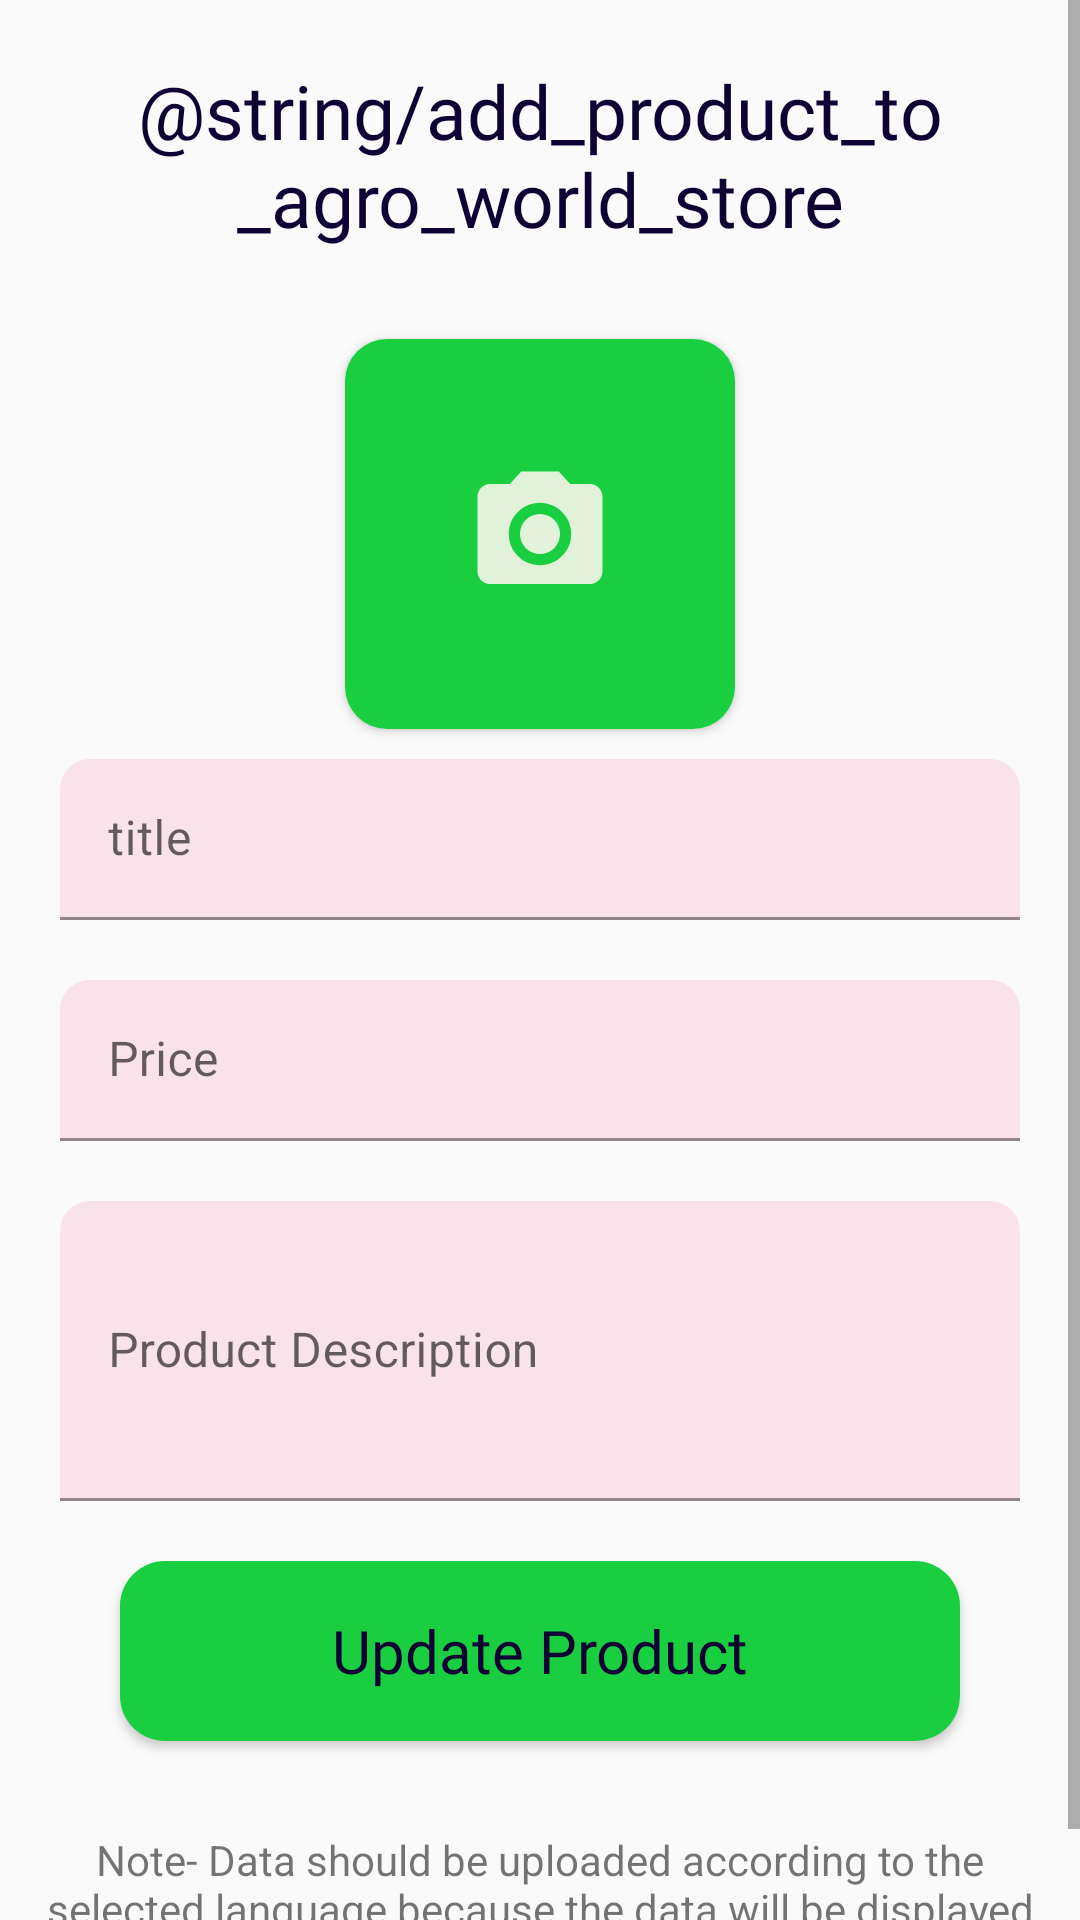

Where icons sit on this 1080 x 1920 app screen, as (left=x1, top=y1, right=x2, bottom=y2):
photo camera: (left=477, top=471, right=603, bottom=584)
